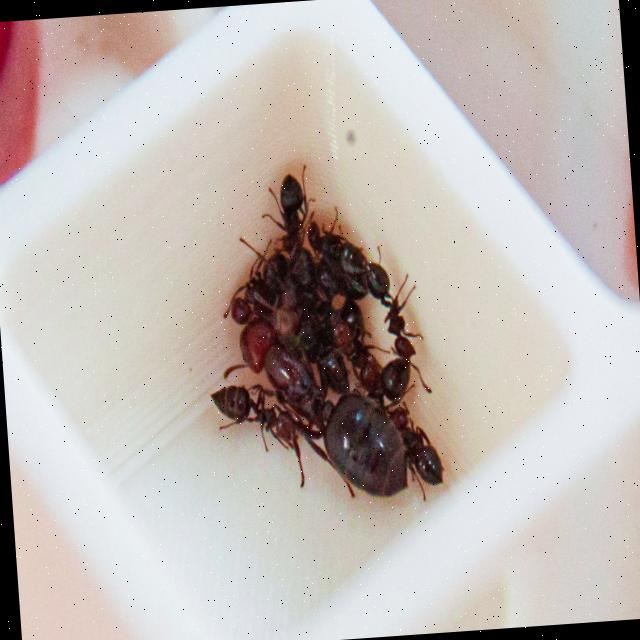Minor: (210, 380, 298, 455), (364, 256, 424, 360), (386, 400, 444, 504)
Queen: (238, 305, 408, 507)
